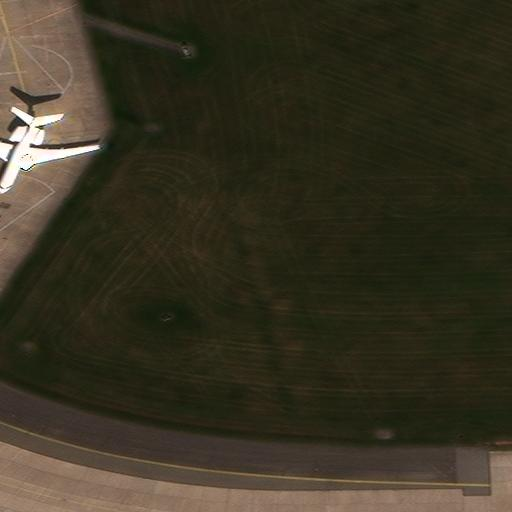Medium Civil Transport: (0, 109, 100, 200)
